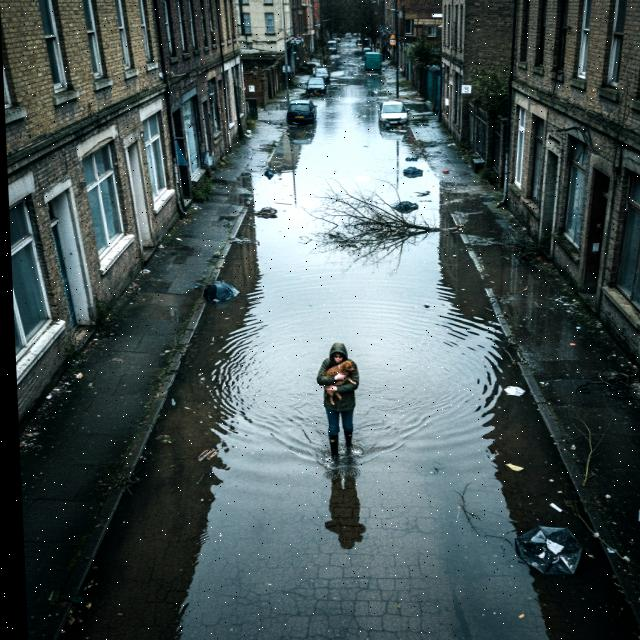civilian: (308, 338, 371, 476)
dog: (320, 356, 362, 404)
